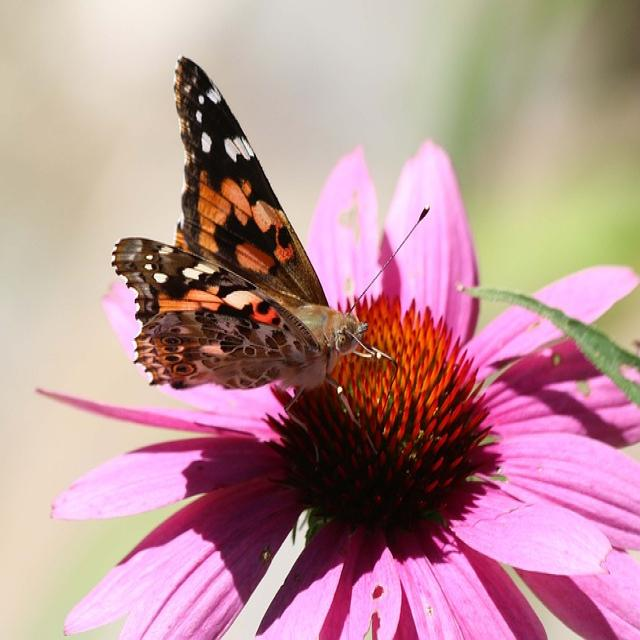butterfly: (103, 61, 366, 396)
